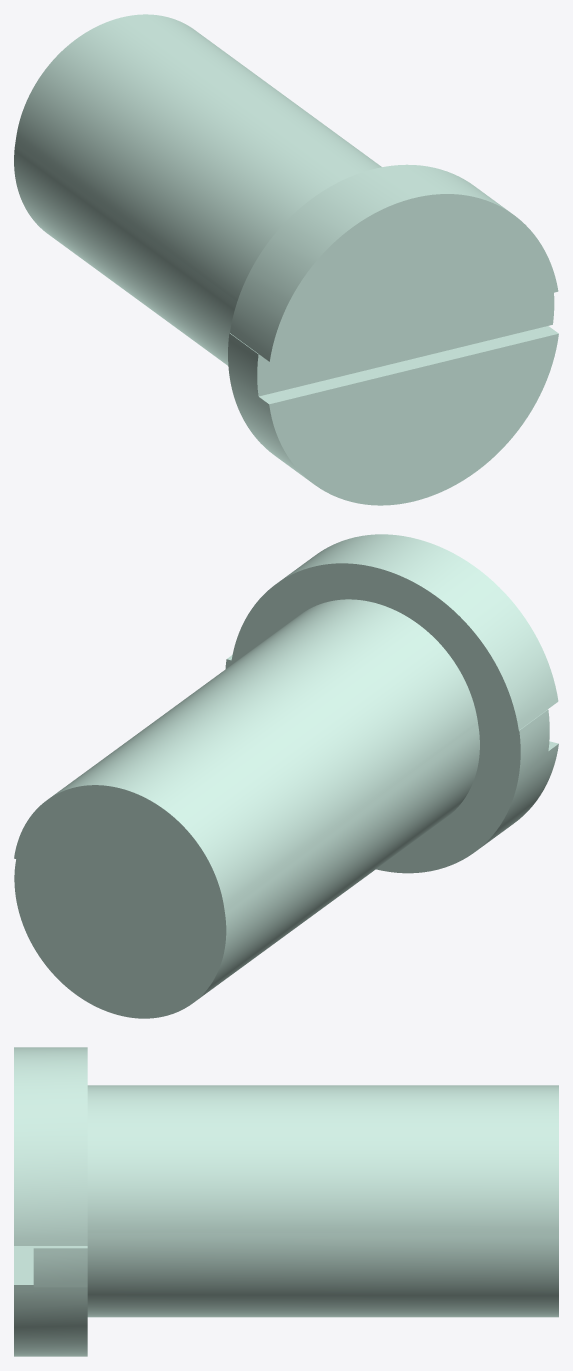
3 views of the same model, one above another, from view 1: azimuth 30°, elevation 25°; view 2: azimuth 150°, elevation 25°; view 3: azimuth 270°, elevation 25° (orthographic). The views are drawn at different scales.
Parts seen in each view (by area): view 1: Renderer Node; view 2: Renderer Node; view 3: Renderer Node.
Part boxes in pixels (left/top/right/bottom): Renderer Node: left=14, top=14, right=558, bottom=505; Renderer Node: left=14, top=534, right=558, bottom=1018; Renderer Node: left=14, top=1047, right=558, bottom=1356.
Bounding box in the file's own units: 0.5046 × 0.4923 × 0.8672.
